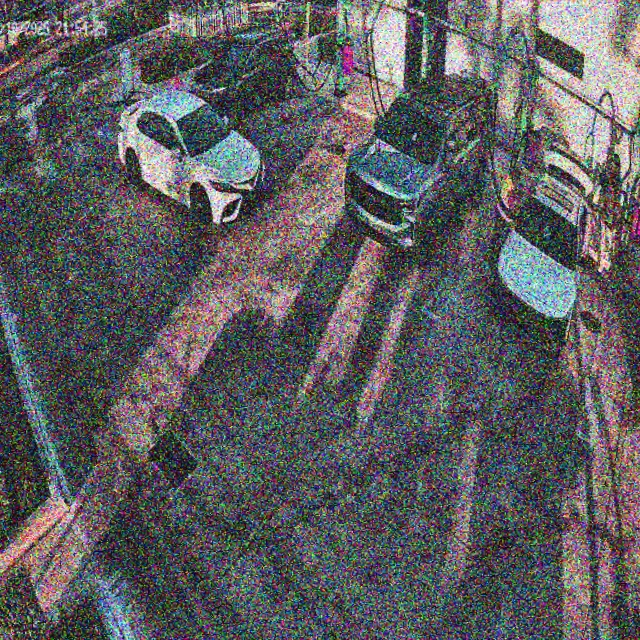Car: (340, 73, 499, 261), (115, 89, 269, 222)
